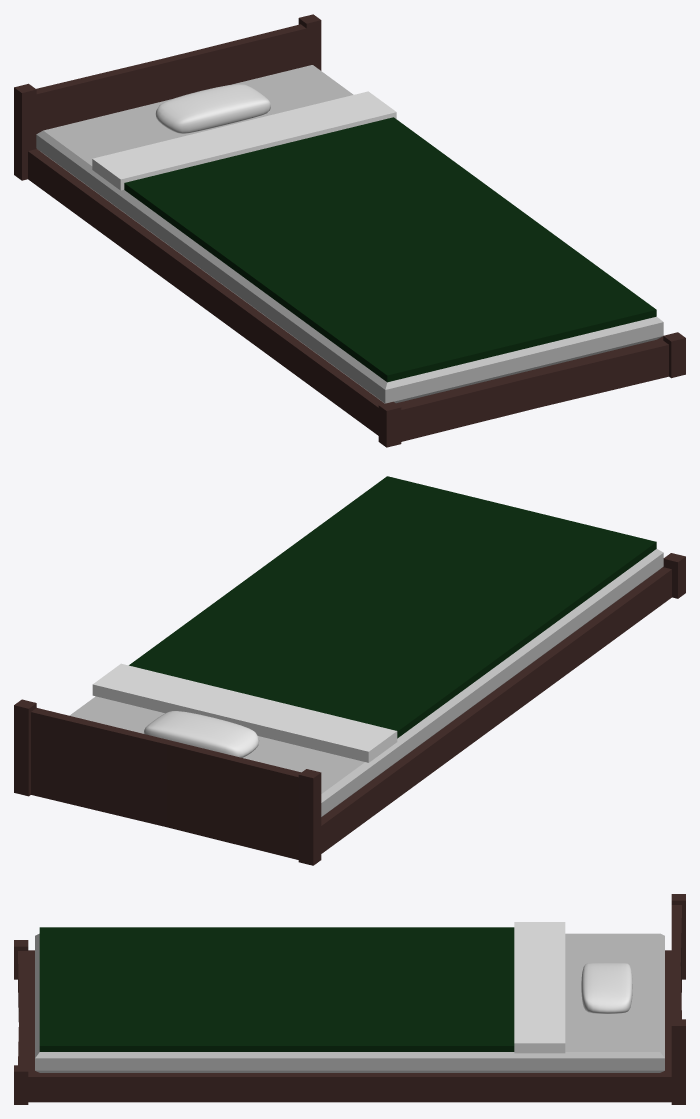
Rendered from BedSingle.fbx.
3 renders of one model, top to bottom at view 1: azimuth 30°, elevation 25°; view 2: azimuth 150°, elevation 25°; view 3: azimuth 270°, elevation 25°, orthographic. The views are drawn at different scales.
Visible parts, largest first — view 1: Sheets.001, BedSingle, Mattress.001, Pillow.003; view 2: Sheets.001, BedSingle, Mattress.001, Pillow.003; view 3: Sheets.001, BedSingle, Mattress.001, Pillow.003.
Part boxes in pixels (x1,y1,x2,y2): Sheets.001: (92, 91, 656, 382); BedSingle: (14, 14, 685, 447); Mattress.001: (36, 65, 663, 403); Pillow.003: (155, 84, 270, 133); Sheets.001: (92, 476, 656, 762); BedSingle: (14, 553, 685, 865); Mattress.001: (69, 549, 663, 816); Pillow.003: (143, 711, 259, 757); Sheets.001: (39, 922, 565, 1053); BedSingle: (14, 894, 685, 1104); Mattress.001: (35, 933, 664, 1072); Pillow.003: (581, 962, 632, 1013).
Bounding box in the file's own units: 1163 × 325 × 2507.
